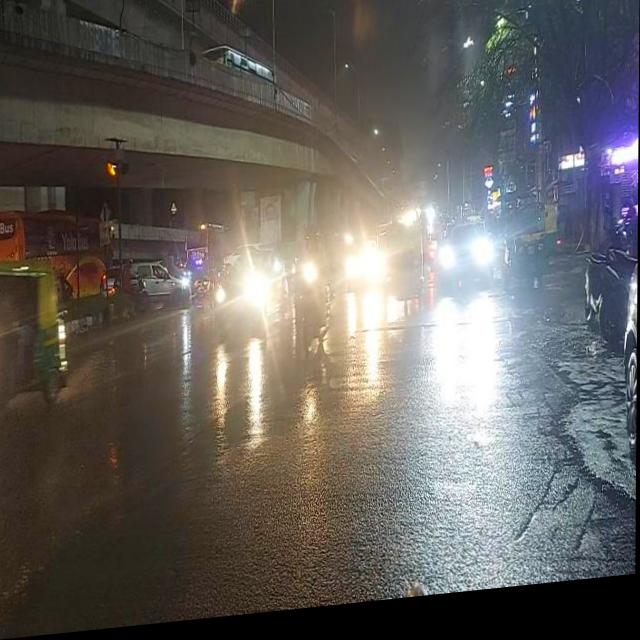bus: (3, 208, 114, 343), (190, 40, 292, 101)
car: (209, 252, 284, 335), (433, 217, 505, 291), (114, 257, 188, 306), (339, 241, 390, 290), (397, 200, 425, 235), (417, 200, 442, 225)
motorcycle: (1, 260, 73, 427), (288, 256, 344, 377), (502, 201, 555, 298), (118, 257, 156, 325)
